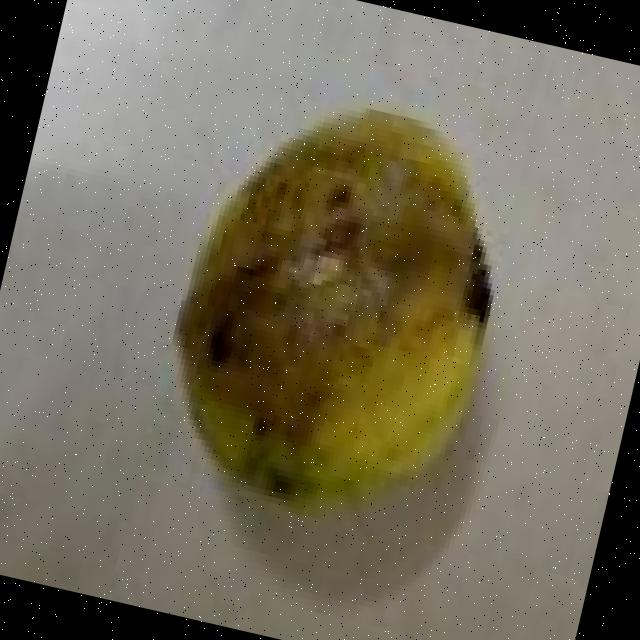Bad_Guava 0 day: (178, 111, 490, 510)
